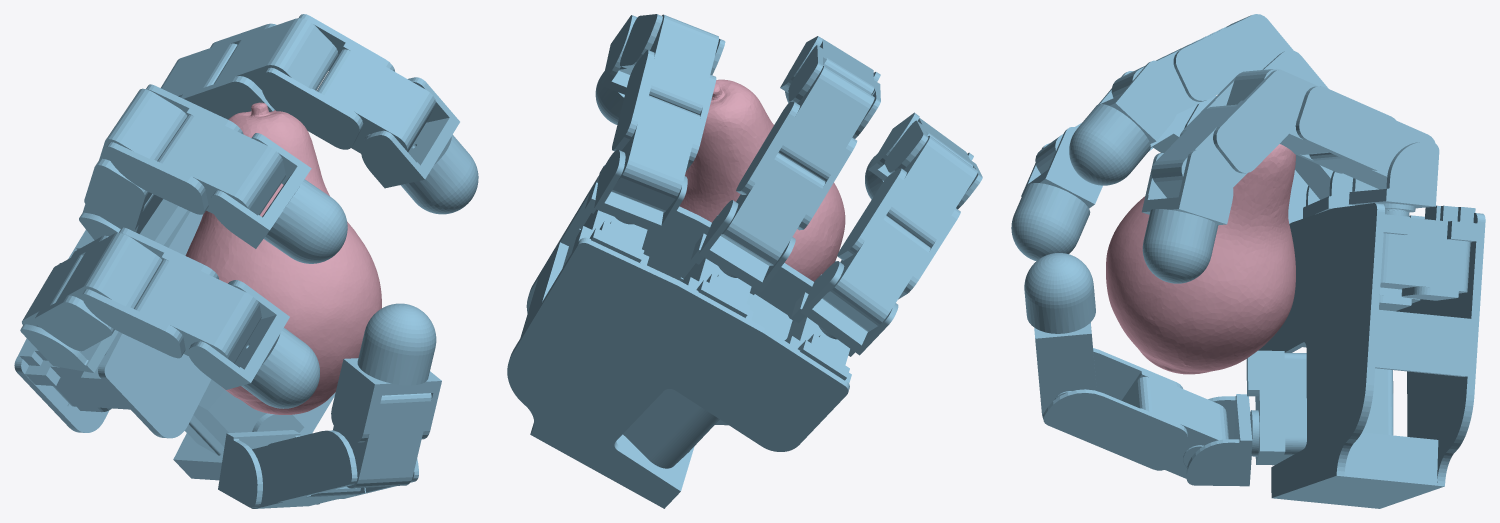
3 views of the same model, side by side, from view 1: azimuth 30°, elevation 25°; view 2: azimuth 150°, elevation 25°; view 3: azimuth 270°, elevation 25° (orthographic). The views are drawn at different scales.
Visible parts, largest first — view 1: world, pear.stl; view 2: world, pear.stl; view 3: world, pear.stl.
Boxes of the visible parts, x1=… form: world: x1=14, y1=14, x2=478, y2=508; pear.stl: x1=185, y1=102, x2=381, y2=414; world: x1=507, y1=14, x2=982, y2=508; pear.stl: x1=679, y1=79, x2=845, y2=281; world: x1=1011, y1=14, x2=1485, y2=508; pear.stl: x1=1106, y1=144, x2=1295, y2=374.
Size of the model in its own units: 0.1543 by 0.178 by 0.1637.
